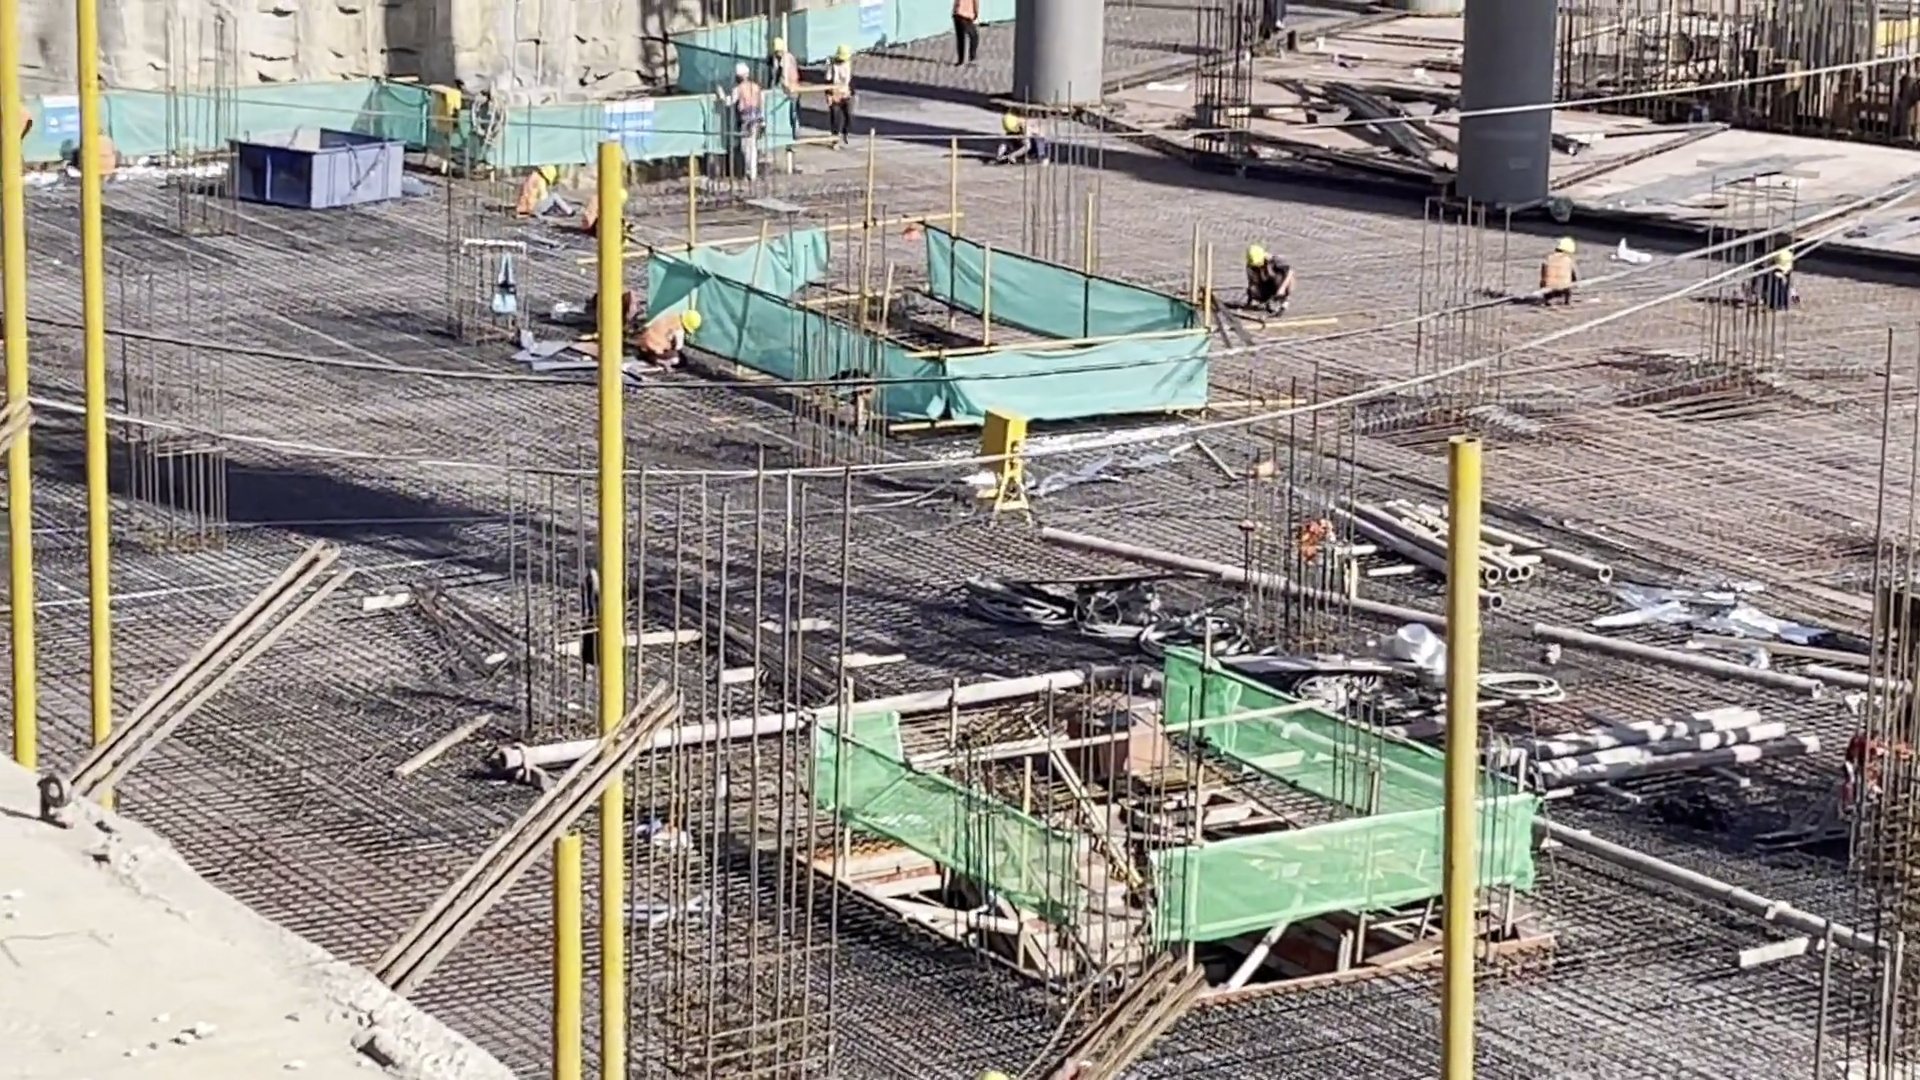ebox: (975, 410, 1024, 515), (429, 83, 465, 133)
helmet: (681, 311, 700, 335), (1555, 238, 1576, 254), (539, 165, 557, 184), (1775, 251, 1792, 270), (1247, 247, 1263, 266), (834, 45, 850, 60), (1001, 114, 1016, 132), (734, 63, 750, 76), (771, 38, 784, 52)
hopper: (228, 130, 404, 214)
person: (723, 62, 762, 183), (1243, 246, 1296, 320), (638, 307, 700, 365), (826, 45, 852, 141), (1539, 239, 1577, 305), (519, 165, 562, 224), (947, 1, 985, 66), (767, 38, 802, 99)
slogan: (606, 103, 661, 150), (44, 97, 79, 142), (854, 1, 888, 35)
vest: (640, 311, 681, 356), (1540, 256, 1569, 292), (831, 65, 851, 106), (521, 170, 540, 206), (958, 1, 978, 24)
